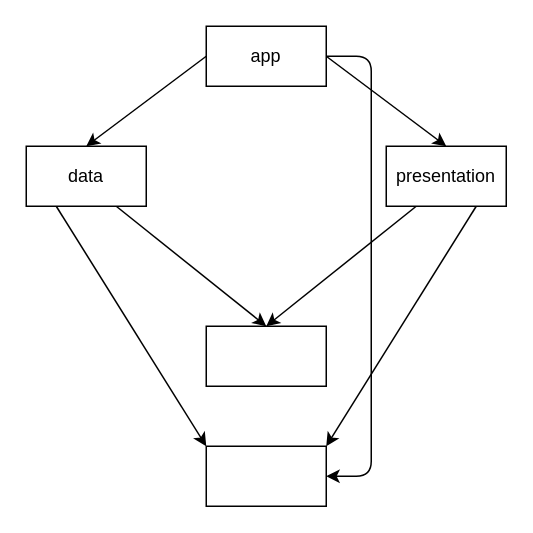
The diagram is 533 pixels wide and 533 high, and some of its shapes have lost their labels. The centre of each missing label's shape, as x and y in pixels:
"core" goes at (x=265, y=475).
"domain" goes at (x=265, y=355).
